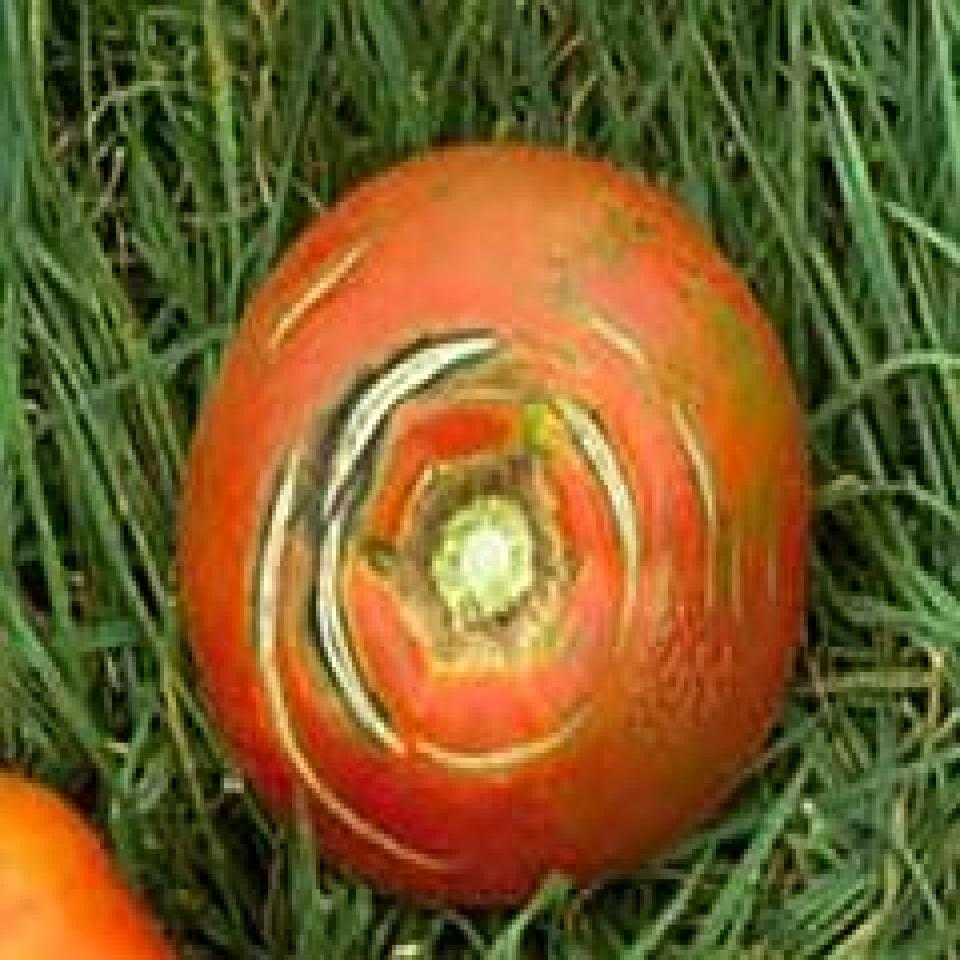Cracking: (229, 432, 453, 874), (298, 322, 497, 770), (539, 370, 653, 684), (653, 394, 735, 616), (404, 690, 607, 778), (258, 222, 374, 368), (561, 279, 663, 380)
